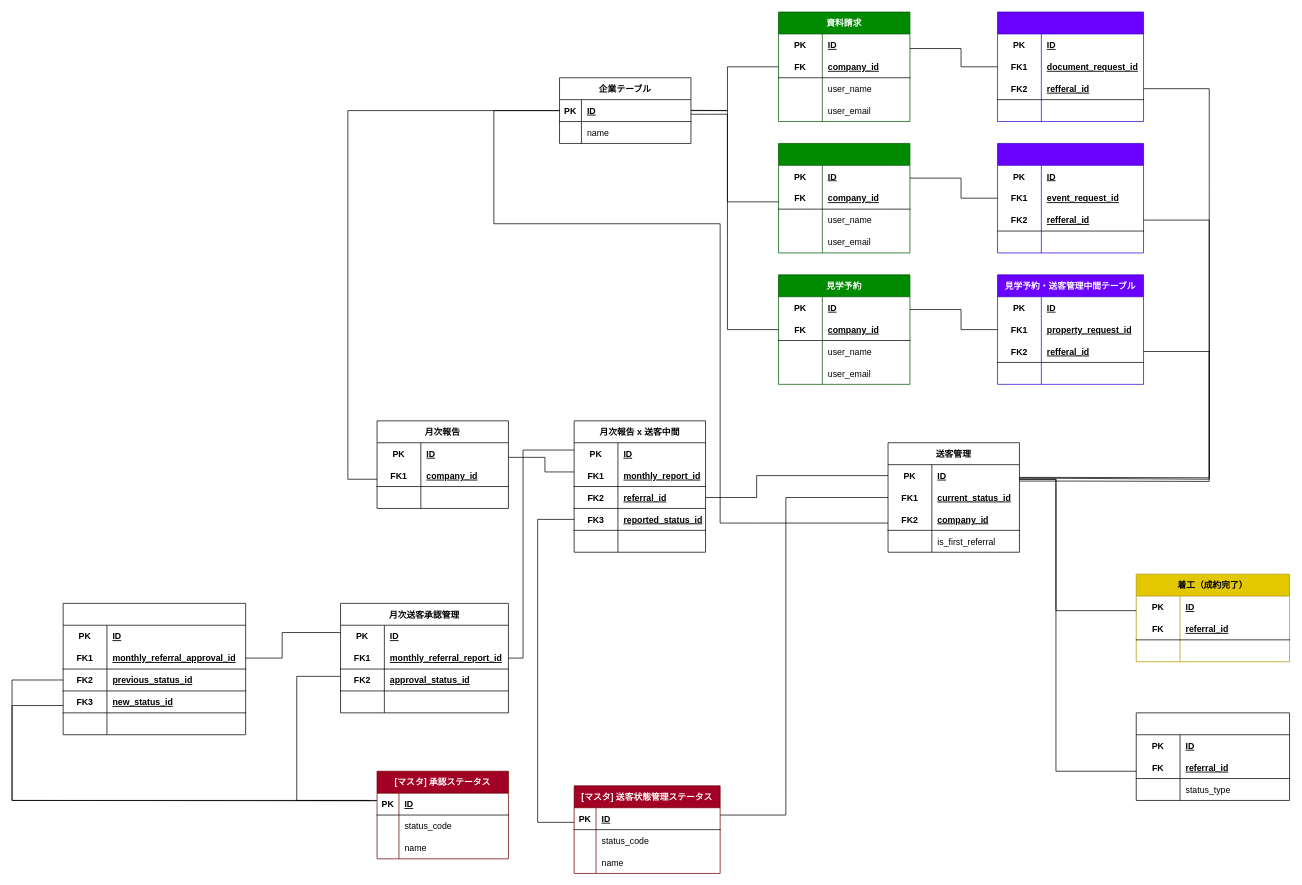
This 1302x885 diagram has some shape labels left out. Here are the shapes that lost their labels. From the top down, the box of each, then its label:
(997, 11, 1144, 122): 資料請求・送客管理中間テーブル
(778, 143, 910, 253): イベント予約
(997, 143, 1144, 253): イベント予約・送客管理中間テーブル
(62, 603, 246, 735): 送客承認ステータス変更履歴
(1136, 712, 1290, 800): 送客管理アップロード画像
